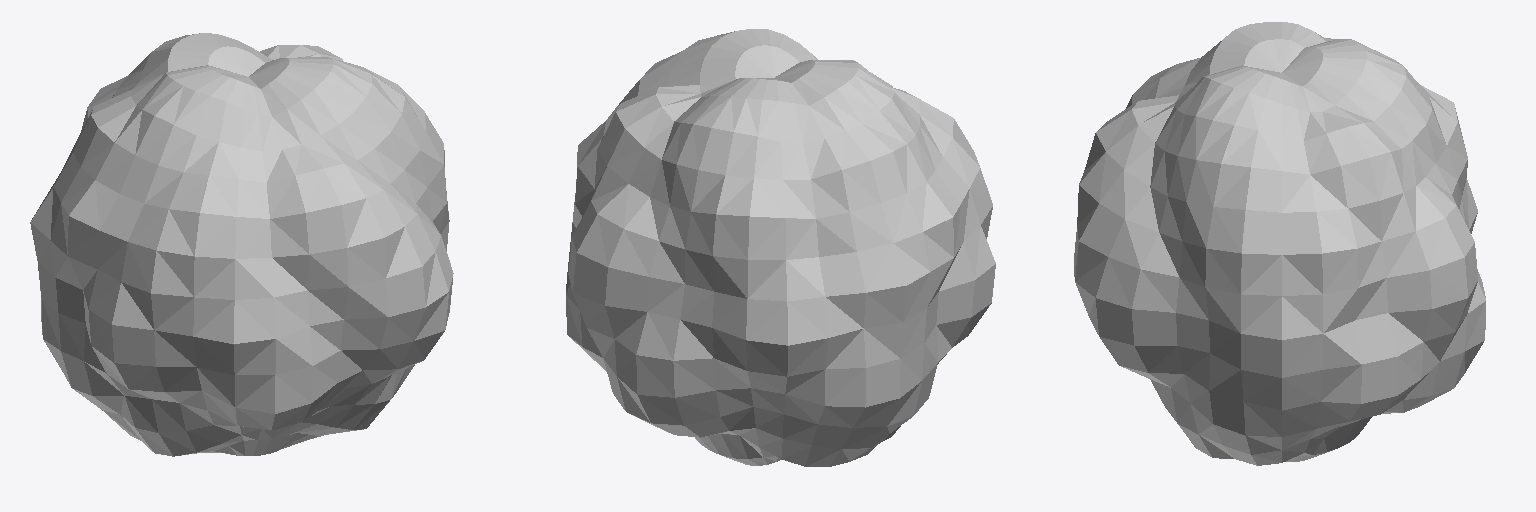
Rendered from Explosion.obj.
3 views of the same model, side by side, from view 1: azimuth 30°, elevation 25°; view 2: azimuth 150°, elevation 25°; view 3: azimuth 270°, elevation 25° (orthographic).
Parts seen in each view (by area): view 1: Sphere; view 2: Sphere; view 3: Sphere.
Boxes of the visible parts, x1=… form: Sphere: x1=30, y1=33, x2=453, y2=456; Sphere: x1=566, y1=29, x2=995, y2=466; Sphere: x1=1074, y1=22, x2=1485, y2=465.
Bounding box in the file's own units: 2.43 × 2.43 × 2.32.